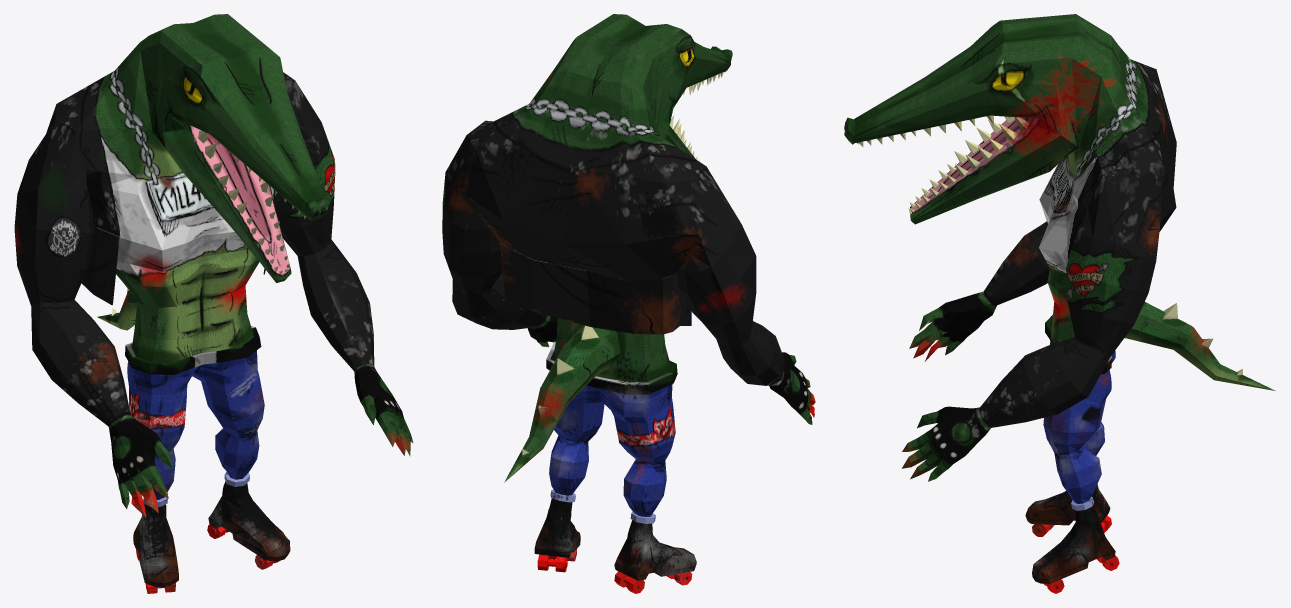
The model's file is cocodrilaBonesSelect_000039.obj.
The picture shows the model from 3 angles, left to right: view 1: azimuth 30°, elevation 25°; view 2: azimuth 150°, elevation 25°; view 3: azimuth 270°, elevation 25°; orthographic projection. The views are drawn at different scales.
Visible parts, largest first — view 1: Crocodile.002_Cylinder.002; view 2: Crocodile.002_Cylinder.002; view 3: Crocodile.002_Cylinder.002.
Boxes of the visible parts, x1=… form: Crocodile.002_Cylinder.002: x1=14, y1=14, x2=413, y2=593; Crocodile.002_Cylinder.002: x1=442, y1=14, x2=815, y2=593; Crocodile.002_Cylinder.002: x1=844, y1=14, x2=1275, y2=593.
Size of the model in its own units: 4.11 by 6.74 by 4.96.
